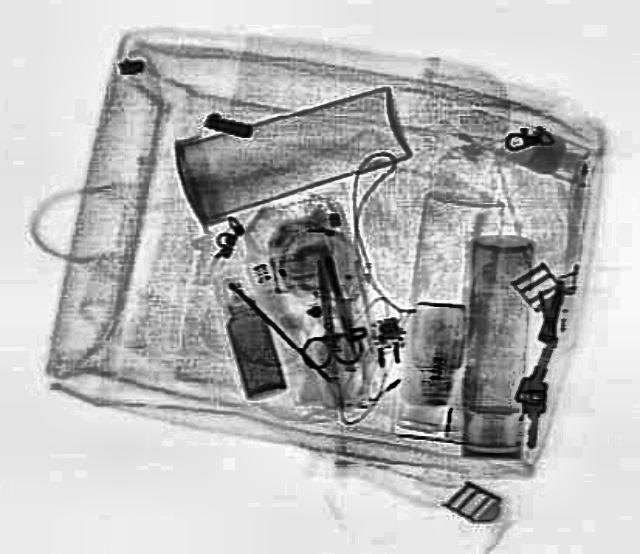Scissors: (284, 257, 362, 367)
